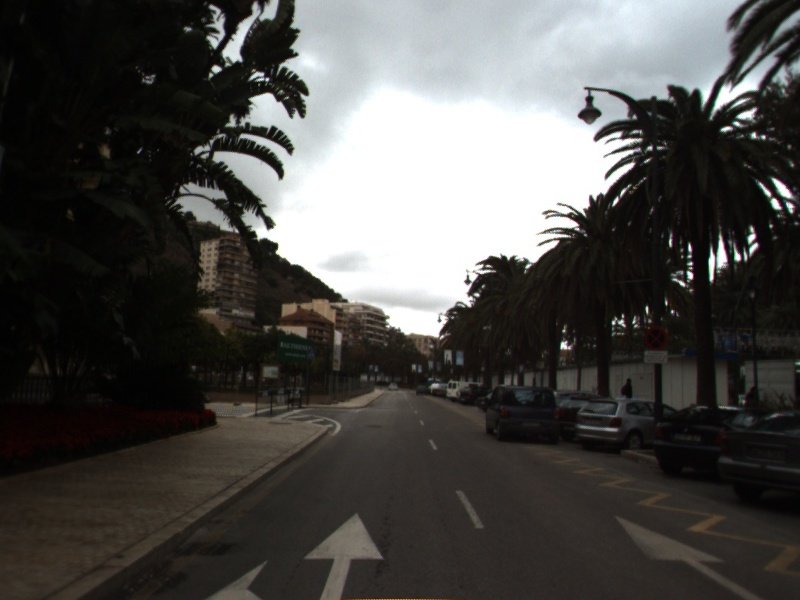STRAIGHT: (612, 513, 766, 600)
STRAIGHT_LEFT: (201, 507, 392, 600)
